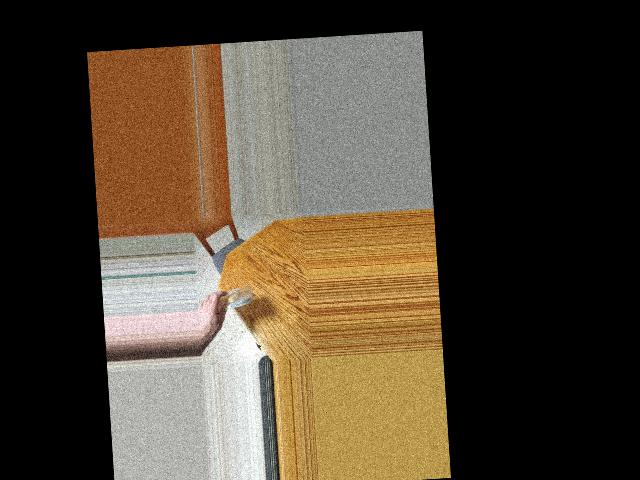cheese: (217, 285, 251, 317)
